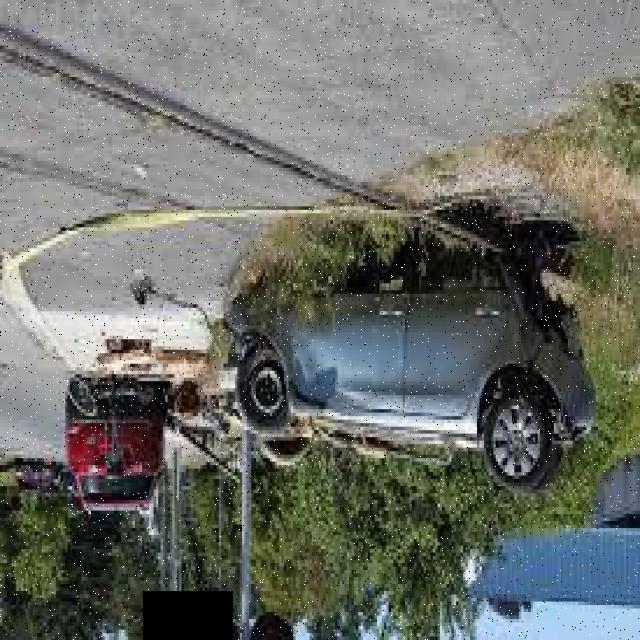severe: (230, 260, 594, 495)
